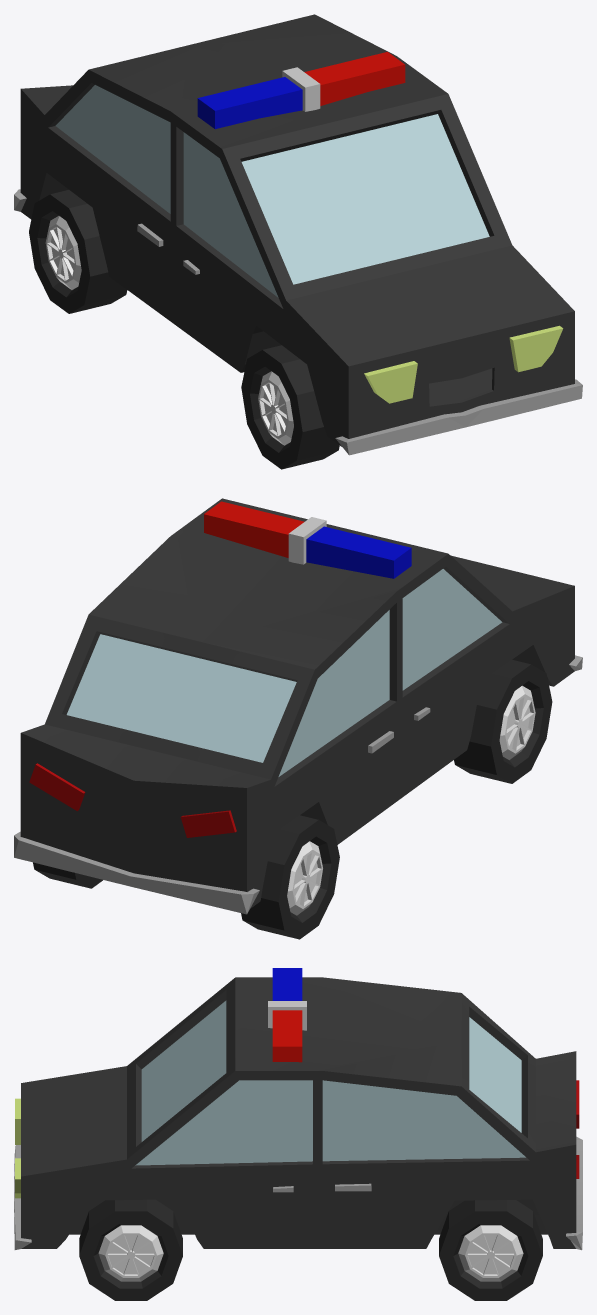
The model's file is Car4Police.fbx.
3 views of the same model, one above another, from view 1: azimuth 30°, elevation 25°; view 2: azimuth 150°, elevation 25°; view 3: azimuth 270°, elevation 25° (orthographic). The views are drawn at different scales.
Parts seen in each view (by area): view 1: Cube, Cylinder.003, Cylinder.002, Cube.001; view 2: Cube, Cylinder.003, Cylinder.002, Cube.001, Cylinder.001; view 3: Cube, Cylinder, Cylinder.001, Cube.001.
Part boxes in pixels (x1,y1,x2,y2): Cube: (14,14,582,455); Cylinder.003: (241,345,339,469); Cylinder.002: (29,190,127,313); Cube.001: (197,52,405,129); Cube: (14,498,582,914); Cylinder.003: (454,659,552,783); Cylinder.002: (241,815,339,939); Cube.001: (204,501,411,578); Cylinder.001: (33,862,102,888); Cube: (14,977,582,1250); Cylinder: (79,1199,182,1300); Cylinder.001: (439,1200,542,1300); Cube.001: (268,968,306,1062).
Bounding box in the file's own units: 88.57 × 97.45 × 206.
